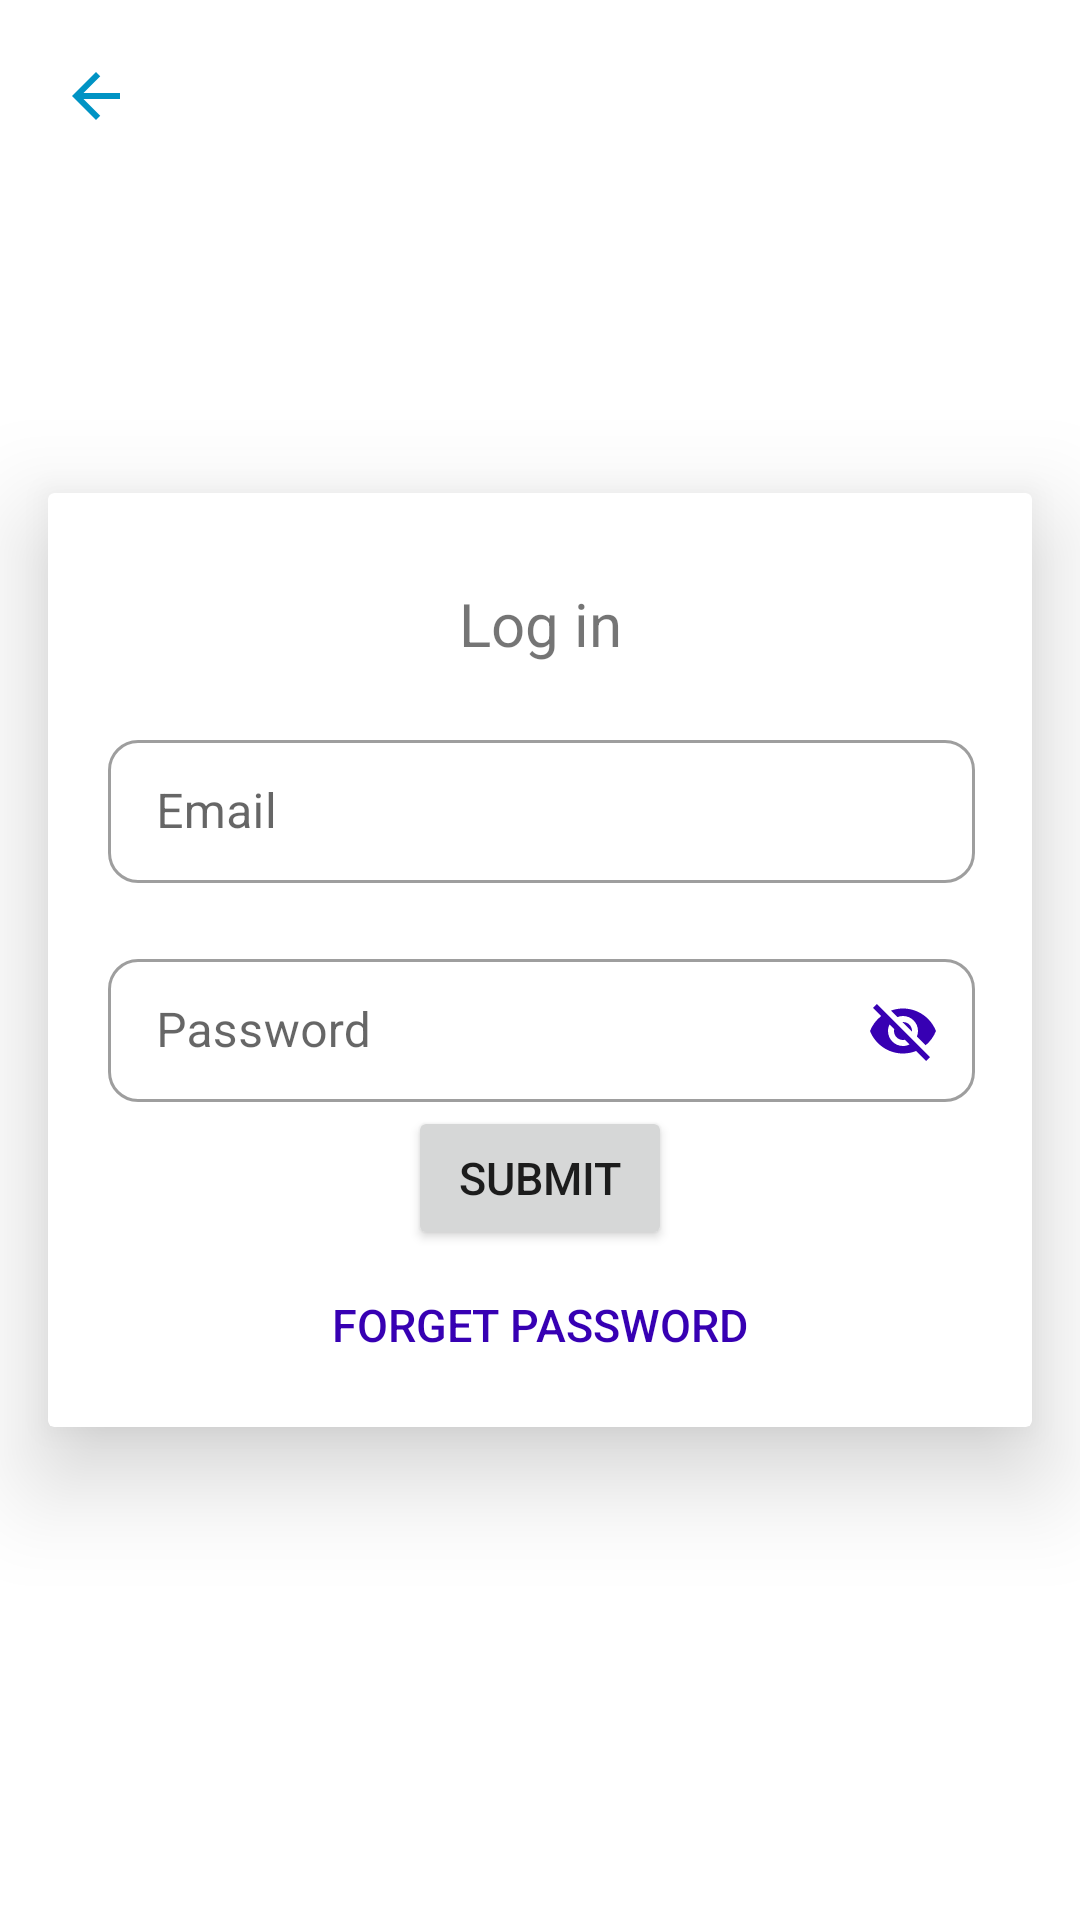

Where to tap for icons on this 1080w x 1920h app screen, as [x,y]:
back pressed: [96,96]
